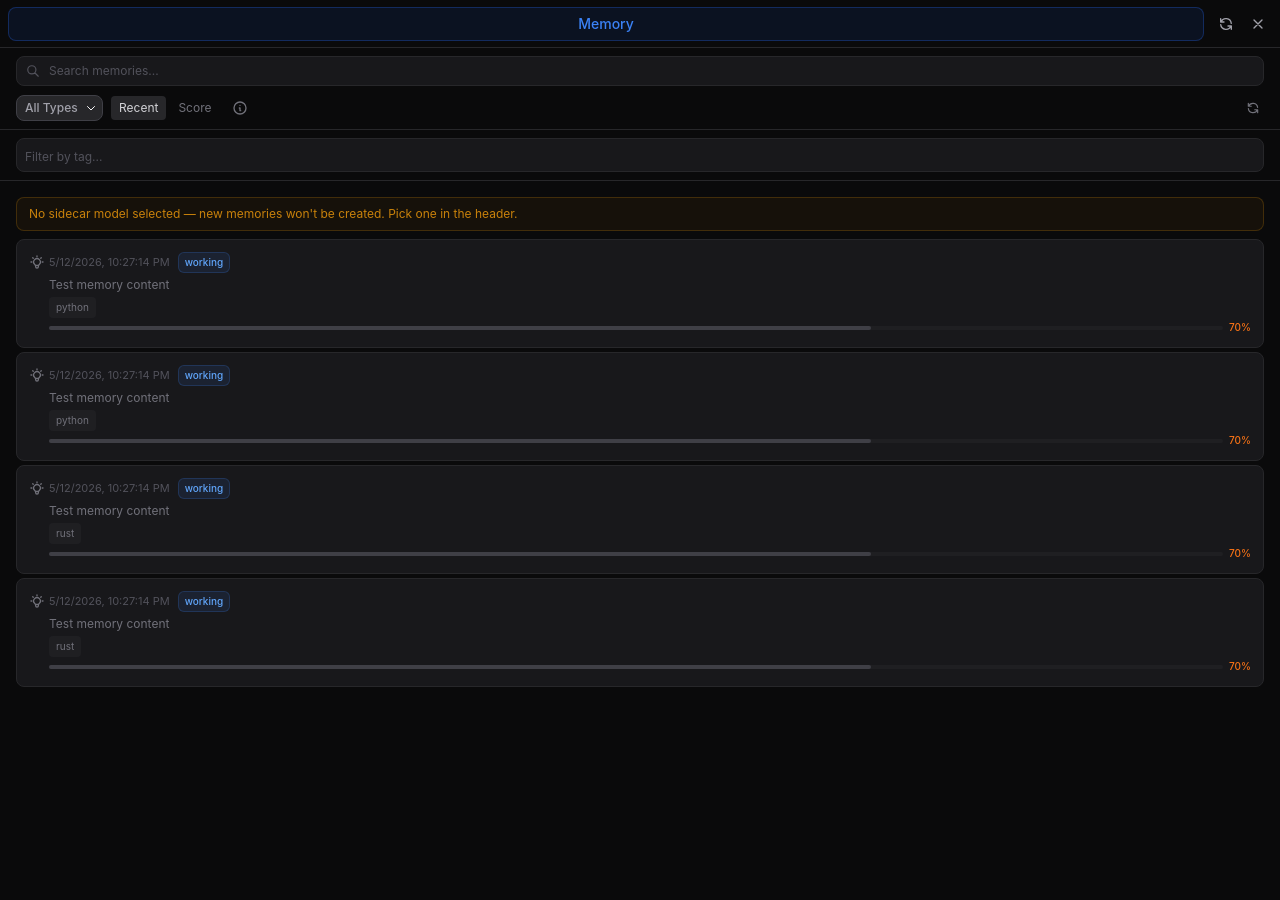
Test case: MemoryPanelV2 › Tag Filtering › shows the Clear X button once a tag pill is added
Step 1. Type "py" into the field with placeholder "Filter by tag..." → (640, 157), box [25,147,1255,167]
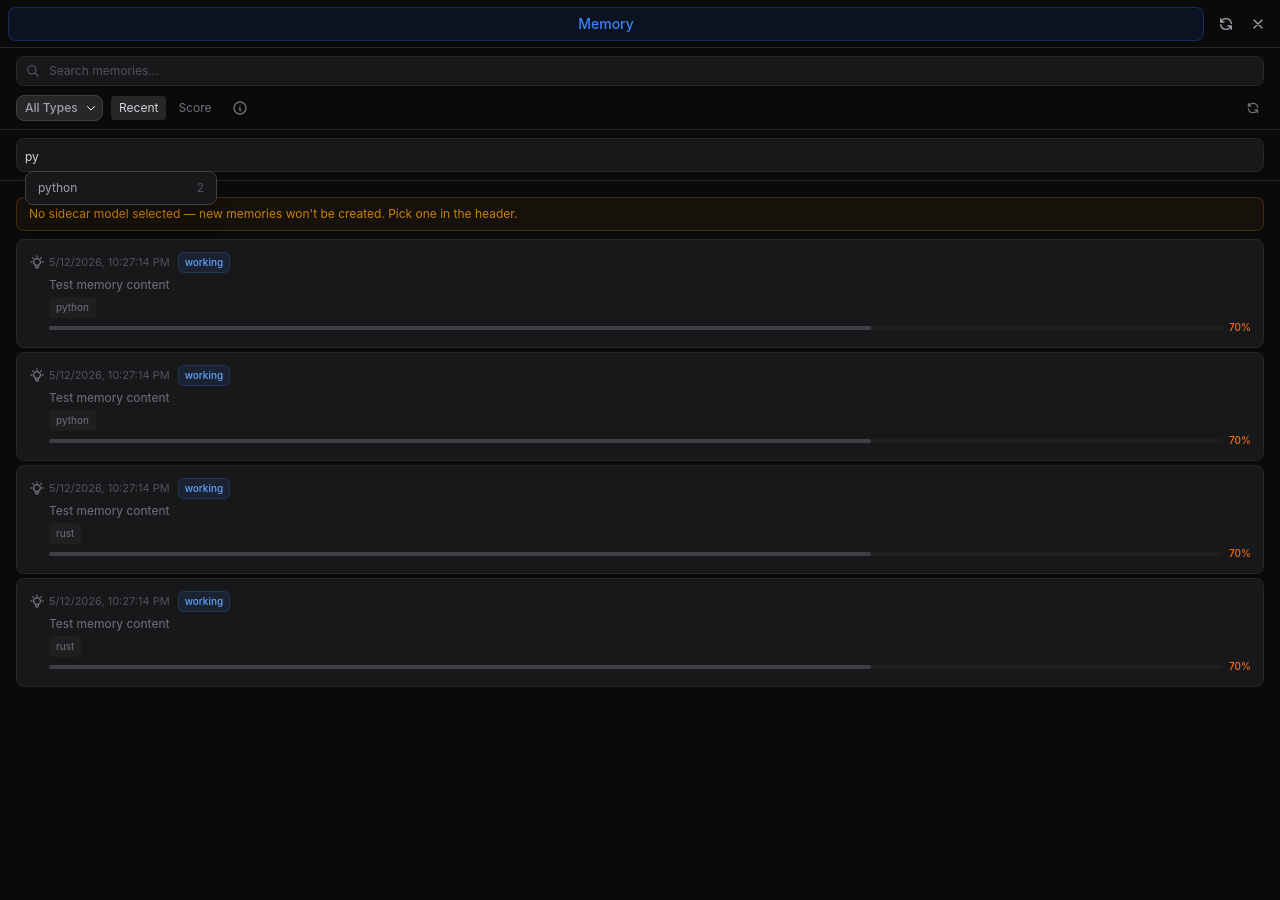
Step 2. Press the mouse on the button "python 2" → (121, 188), box [26,176,216,200]
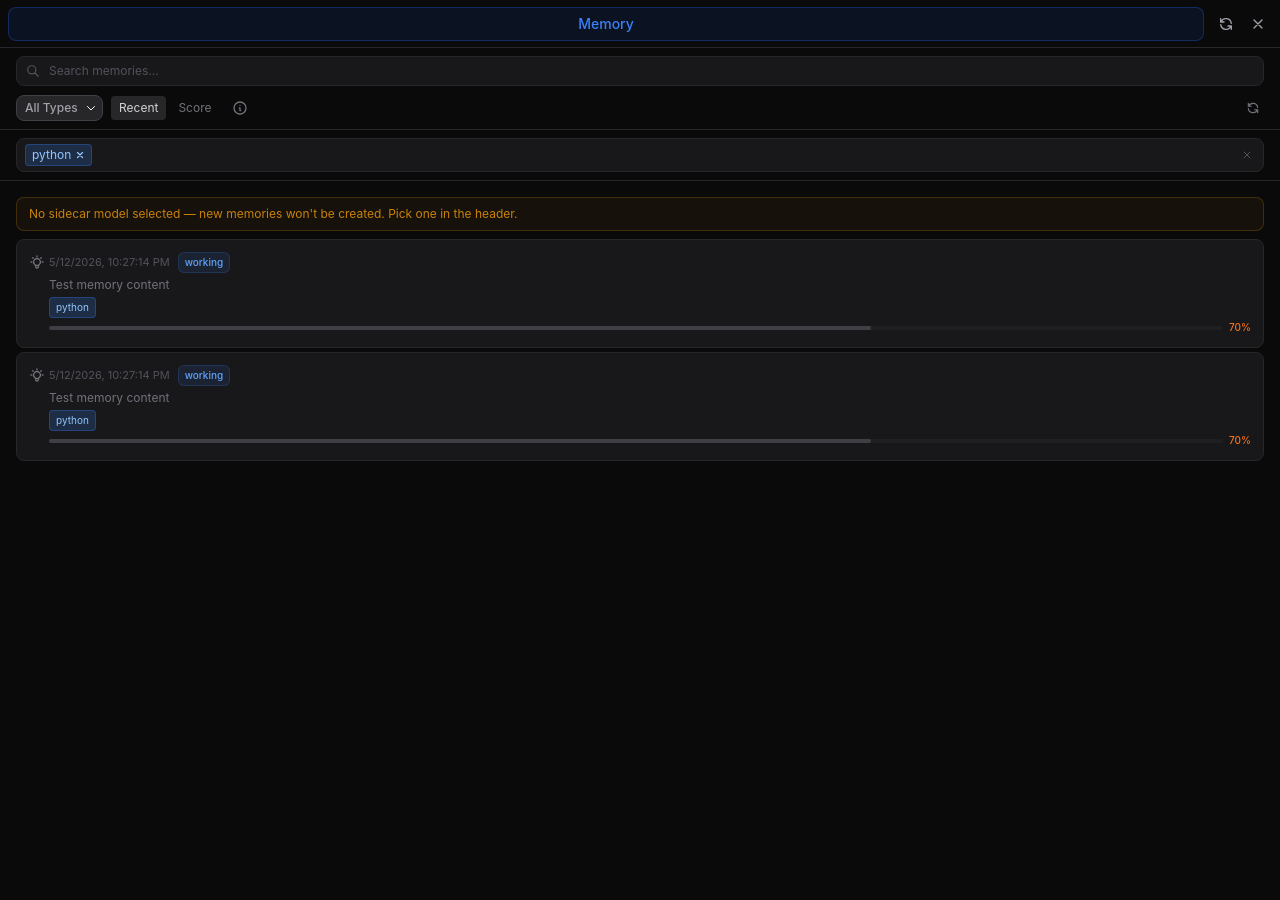
Expected: the button titled "Clear all tags" is shown, [1239,147,1255,163]
